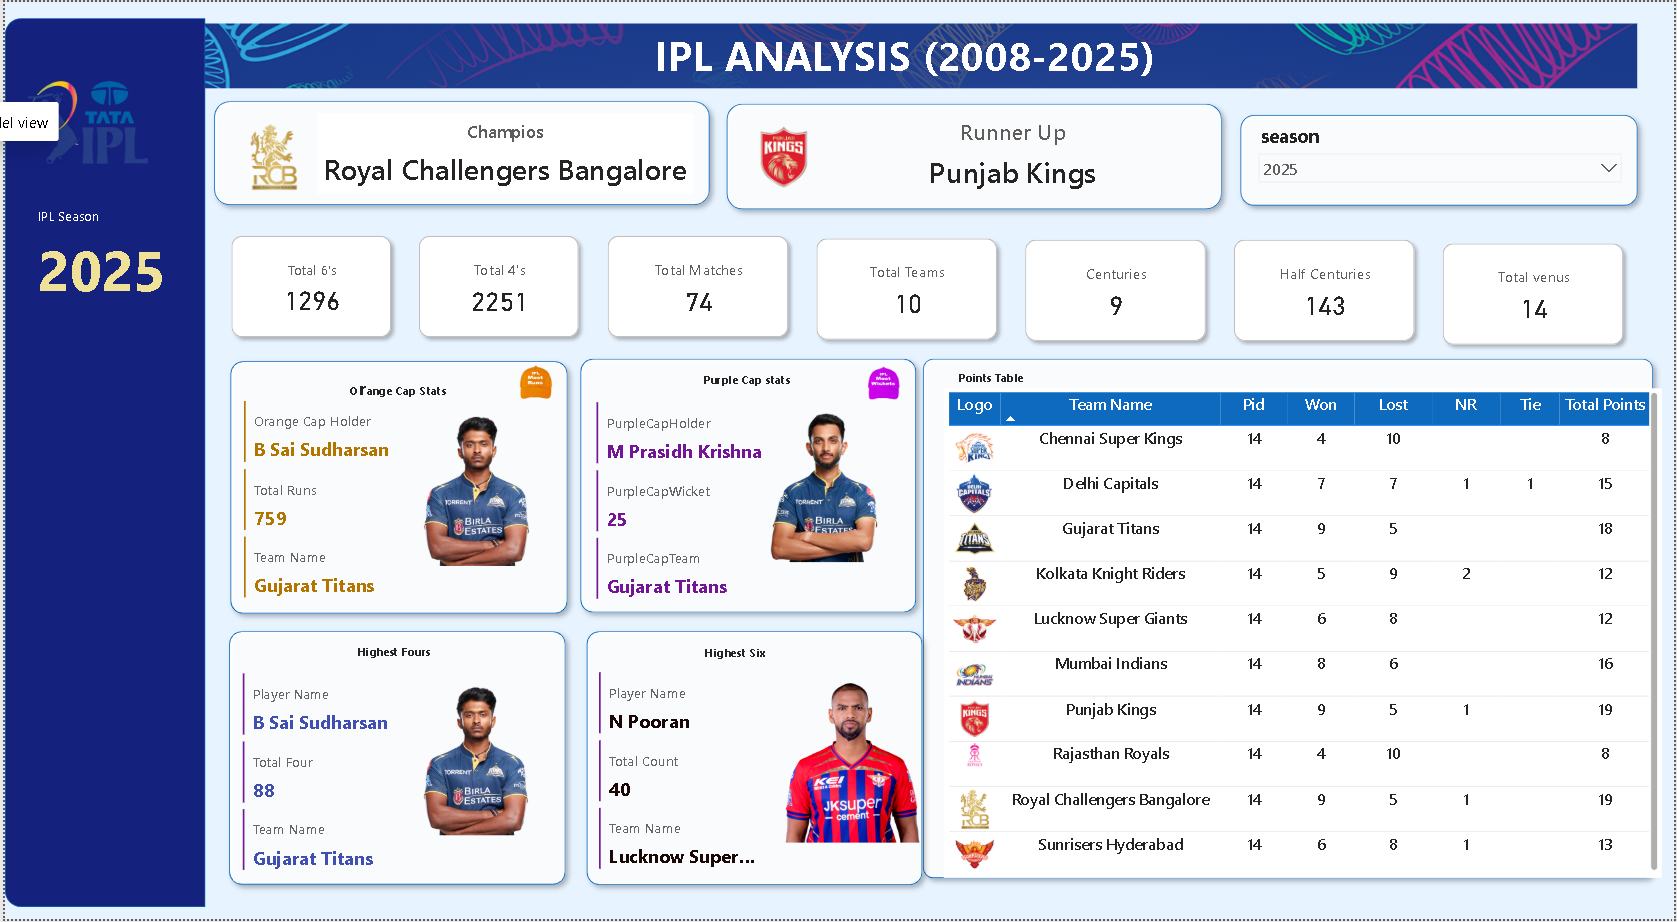

Layout of this report page (visuals, bound fields, positions):
{"tool":"powerbi","page":{"name":"IPL ANALYSIS","canvas":[2000,1100],"ordinal":0},"visuals":[{"type":"shape","box":[1468.5,123.9,497.7,130.6],"z":0},{"type":"shape","box":[1087.8,416.7,896.4,644.1],"z":1000},{"type":"shape","box":[686,742,424,326],"z":2000},{"type":"shape","box":[258.2,742.9,424.8,325.6],"z":3000},{"type":"shape","box":[259,418.9,425.7,324.3],"z":4000},{"type":"shape","box":[853.6,110.4,614.9,148.6],"z":5000},{"type":"shape","box":[239,108.2,615.4,146.5],"z":6000},{"type":"image","box":[227.5,20.3,1727.5,87.8],"z":7000},{"type":"shape","box":[0,20,240,1064.4],"z":8000},{"type":"textbox","box":[770,26,618,84],"z":9000},{"type":"slicer","fields":{"Values":["ipl_matches_data.season"]},"box":[1491,139.6,455,101.4],"z":10000},{"type":"cardVisual","fields":{"Data":["ipl_matches_data.Season Winner"]},"box":[373.9,132.9,450.5,96.8],"z":11000},{"type":"cardVisual","fields":{"Data":["ipl_matches_data.Season Winner Logo"]},"box":[259,110.4,130.6,153.2],"z":12000},{"type":"cardVisual","fields":{"Data":["ipl_matches_data.Runner Up"]},"box":[982,132.9,450.5,96.8],"z":13000},{"type":"cardVisual","fields":{"Data":["ipl_matches_data.Runner UP Team Logo"]},"box":[869.4,110.4,130.6,153.2],"z":14000},{"type":"cardVisual","fields":{"Data":["ipl_matches_data.Total 4's"]},"box":[479.7,263.5,225.2,155.4],"z":15000},{"type":"cardVisual","fields":{"Data":["ipl_matches_data.Total Matches"]},"box":[705,263.5,250,155.4],"z":16000},{"type":"cardVisual","fields":{"Data":["ipl_matches_data.Total Teams"]},"box":[955,265.8,250,155.4],"z":17000},{"type":"cardVisual","fields":{"Data":["ipl_matches_data.Centuries"]},"box":[1205,268,250,155.4],"z":18000},{"type":"cardVisual","fields":{"Data":["ipl_matches_data.Half Centuries"]},"box":[1455,268,250,155.4],"z":19000},{"type":"cardVisual","fields":{"Data":["ipl_matches_data.Total venus"]},"box":[1705,272.5,250,155.4],"z":20000},{"type":"cardVisual","fields":{"Data":["ipl_matches_data.Total 6's"]},"box":[254.5,263.5,225.2,155.4],"z":21000},{"type":"cardVisual","fields":{"Data":["ipl_matches_data.Orange Cap Holder","ipl_matches_data.Orange Cap Runs","ipl_matches_data.Orange Cap Team Name"]},"box":[281.4,472.9,245.7,245.7],"z":22000},{"type":"textbox","box":[390,441.2,161.2,41.2],"z":23000},{"type":"cardVisual","fields":{"Data":["ipl_matches_data.Orange Cap Image"]},"box":[450,462.5,235,240],"z":24000},{"type":"image","box":[598.8,430,73.8,52.5],"z":25000},{"type":"shape","box":[678,416,424,326],"z":26000},{"type":"cardVisual","fields":{"Data":["ipl_matches_data.PurpleCapHolder","ipl_matches_data.PurpleCapWicket","ipl_matches_data.PurpleCapTeam"]},"box":[704,474,250,246],"z":27000},{"type":"cardVisual","fields":{"Data":["ipl_matches_data.PurpleCapHolderImage"]},"box":[869.4,459.5,234.2,238.7],"z":28000},{"type":"textbox","box":[808.6,438.6,161.4,41.4],"z":29000},{"type":"image","box":[1025.7,431.4,54.3,51.4],"z":30000},{"type":"cardVisual","fields":{"Data":["ipl_matches_data.Top Fours Player Name","ipl_matches_data.Top Fours Count","ipl_matches_data.Top Fours Player Team Name"]},"box":[280.7,799,250.7,247],"z":31000},{"type":"textbox","box":[386,764,160,42],"z":32000},{"type":"cardVisual","fields":{"Data":["ipl_matches_data.Top Fours Player Image"]},"box":[450.5,786,234.2,241],"z":33000},{"type":"cardVisual","fields":{"Data":["ipl_matches_data.Top Six Player Name","ipl_matches_data.Top Six Count","ipl_matches_data.Top Six Player Team Name"]},"box":[706,798,252,246],"z":34000},{"type":"cardVisual","fields":{"Data":["ipl_matches_data.Top Six Player Image"]},"box":[856.9,784.3,250.5,237.8],"z":35000},{"type":"textbox","box":[794.3,764.3,160,41.4],"z":36000},{"type":"tableEx","fields":{"Values":["teams_data.image_url","teams_data.team_name","ipl_matches_data.Matches Played","ipl_matches_data.Matches Won","ipl_matches_data.Matches Lost","ipl_matches_data.No Result Matches Played","ipl_matches_data.Tie Matches Played","ipl_matches_data.Total Points"]},"box":[1105.7,463,860.6,564.6],"z":37000},{"type":"textbox","box":[1102,436,160,42],"z":38000},{"type":"image","box":[22,68,154,154],"z":39000},{"type":"cardVisual","fields":{"Data":["ipl_matches_data.IPL Season"]},"box":[22,228,196,152],"z":40000}]}

Visuals, with their boxes in screenshot pixels (x1, y1, x2, y2):
shape: [left=1213, top=98, right=1624, bottom=206]
shape: [left=899, top=340, right=1639, bottom=872]
shape: [left=567, top=609, right=917, bottom=878]
shape: [left=213, top=609, right=564, bottom=878]
shape: [left=214, top=342, right=566, bottom=610]
shape: [left=705, top=87, right=1213, bottom=210]
shape: [left=197, top=85, right=706, bottom=206]
image: [left=188, top=12, right=1615, bottom=85]
shape: [left=0, top=12, right=198, bottom=891]
textbox: [left=636, top=17, right=1147, bottom=87]
slicer - ipl_matches_data.season: [left=1232, top=111, right=1608, bottom=195]
cardVisual - ipl_matches_data.Season Winner: [left=309, top=105, right=681, bottom=185]
cardVisual - ipl_matches_data.Season Winner Logo: [left=214, top=87, right=322, bottom=213]
cardVisual - ipl_matches_data.Runner Up: [left=811, top=105, right=1183, bottom=185]
cardVisual - ipl_matches_data.Runner UP Team Logo: [left=718, top=87, right=826, bottom=213]
cardVisual - ipl_matches_data.Total 4's: [left=396, top=213, right=582, bottom=342]
cardVisual - ipl_matches_data.Total Matches: [left=582, top=213, right=789, bottom=342]
cardVisual - ipl_matches_data.Total Teams: [left=789, top=215, right=995, bottom=344]
cardVisual - ipl_matches_data.Centuries: [left=995, top=217, right=1202, bottom=345]
cardVisual - ipl_matches_data.Half Centuries: [left=1202, top=217, right=1409, bottom=345]
cardVisual - ipl_matches_data.Total venus: [left=1409, top=221, right=1615, bottom=349]
cardVisual - ipl_matches_data.Total 6's: [left=210, top=213, right=396, bottom=342]
cardVisual - ipl_matches_data.Orange Cap Holder x ipl_matches_data.Orange Cap Runs: [left=232, top=386, right=435, bottom=589]
textbox: [left=322, top=360, right=455, bottom=394]
cardVisual - ipl_matches_data.Orange Cap Image: [left=372, top=378, right=566, bottom=576]
image: [left=495, top=351, right=556, bottom=394]
shape: [left=560, top=339, right=910, bottom=609]
cardVisual - ipl_matches_data.PurpleCapHolder x ipl_matches_data.PurpleCapWicket: [left=582, top=387, right=788, bottom=590]
cardVisual - ipl_matches_data.PurpleCapHolderImage: [left=718, top=375, right=912, bottom=572]
textbox: [left=668, top=358, right=801, bottom=392]
image: [left=847, top=352, right=892, bottom=394]
cardVisual - ipl_matches_data.Top Fours Player Name x ipl_matches_data.Top Fours Count: [left=232, top=656, right=439, bottom=860]
textbox: [left=319, top=627, right=451, bottom=661]
cardVisual - ipl_matches_data.Top Fours Player Image: [left=372, top=645, right=566, bottom=844]
cardVisual - ipl_matches_data.Top Six Player Name x ipl_matches_data.Top Six Count: [left=583, top=655, right=791, bottom=858]
cardVisual - ipl_matches_data.Top Six Player Image: [left=708, top=644, right=915, bottom=840]
textbox: [left=656, top=627, right=788, bottom=661]
tableEx - teams_data.image_url x teams_data.team_name: [left=913, top=378, right=1624, bottom=845]
textbox: [left=910, top=356, right=1043, bottom=391]
image: [left=18, top=52, right=145, bottom=179]
cardVisual - ipl_matches_data.IPL Season: [left=18, top=184, right=180, bottom=310]
